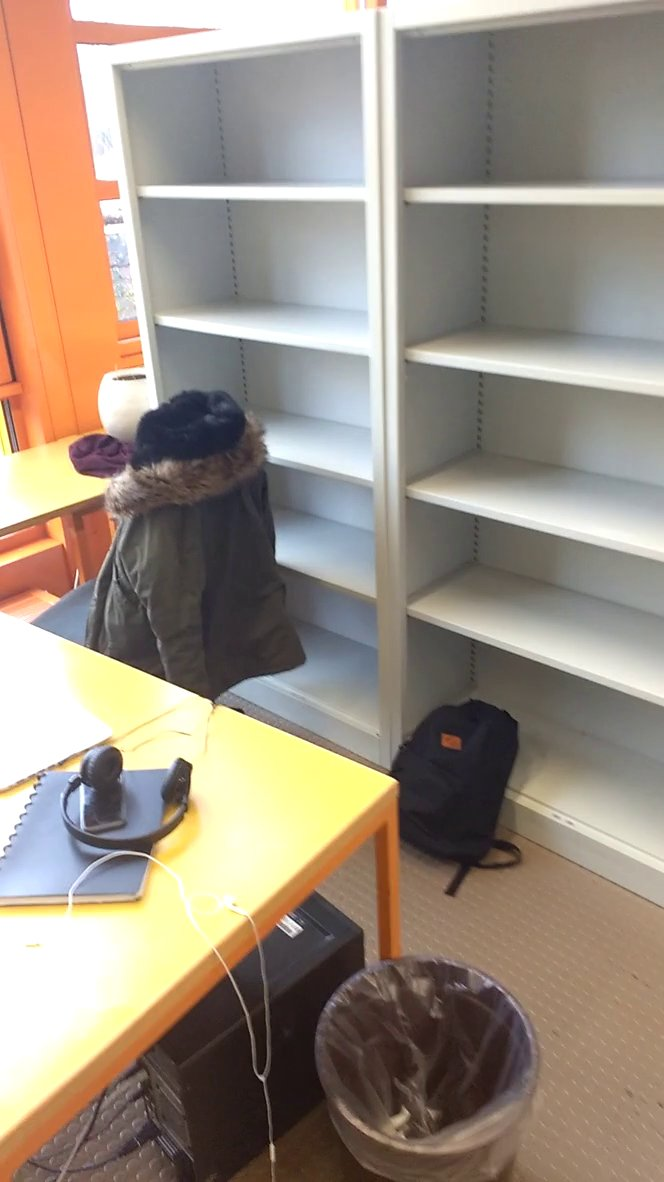bag: (370, 685, 534, 878)
bin: (304, 944, 553, 1182)
